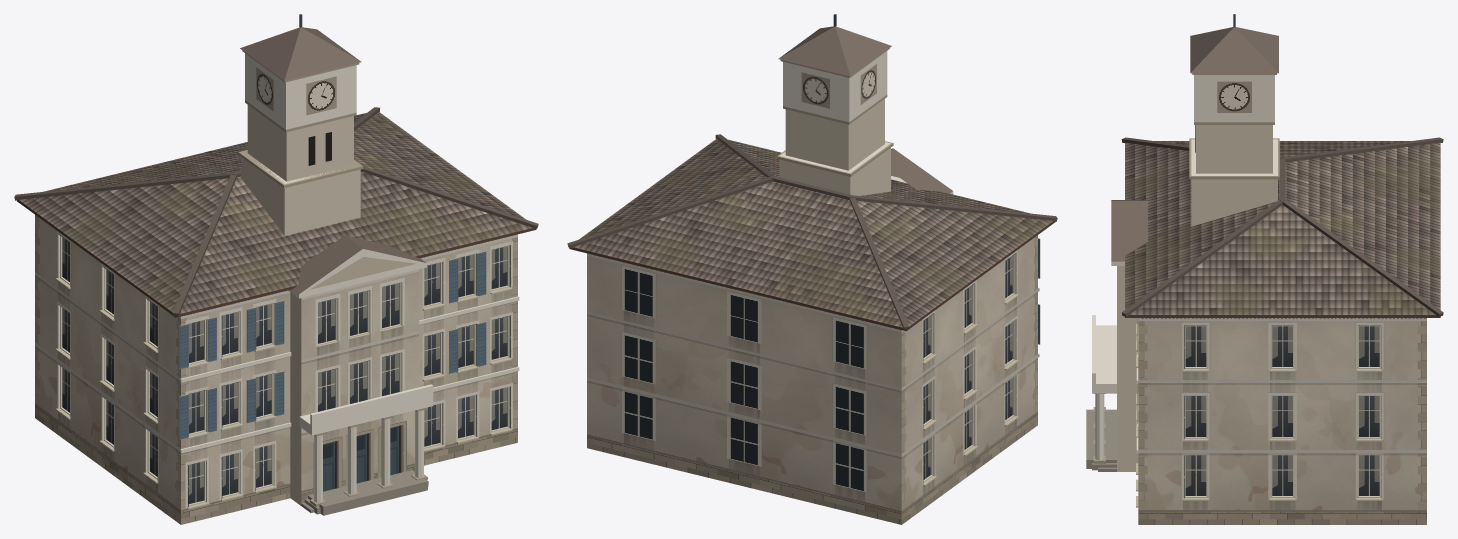
Rendered from hero_civic_b.glb.
The picture shows the model from 3 angles, left to right: view 1: azimuth 30°, elevation 25°; view 2: azimuth 150°, elevation 25°; view 3: azimuth 270°, elevation 25°; orthographic projection. The views are drawn at different scales.
Visible parts, largest first — view 1: bld_hero_civic_b; view 2: bld_hero_civic_b; view 3: bld_hero_civic_b.
Part boxes in pixels (bbox=[...]): bld_hero_civic_b: bbox=[14, 14, 538, 524]; bld_hero_civic_b: bbox=[567, 14, 1057, 524]; bld_hero_civic_b: bbox=[1086, 14, 1443, 524].
Size of the model in its own units: 21.73 by 24.6 by 18.56.
Materials: 1 (1 with a texture image).
